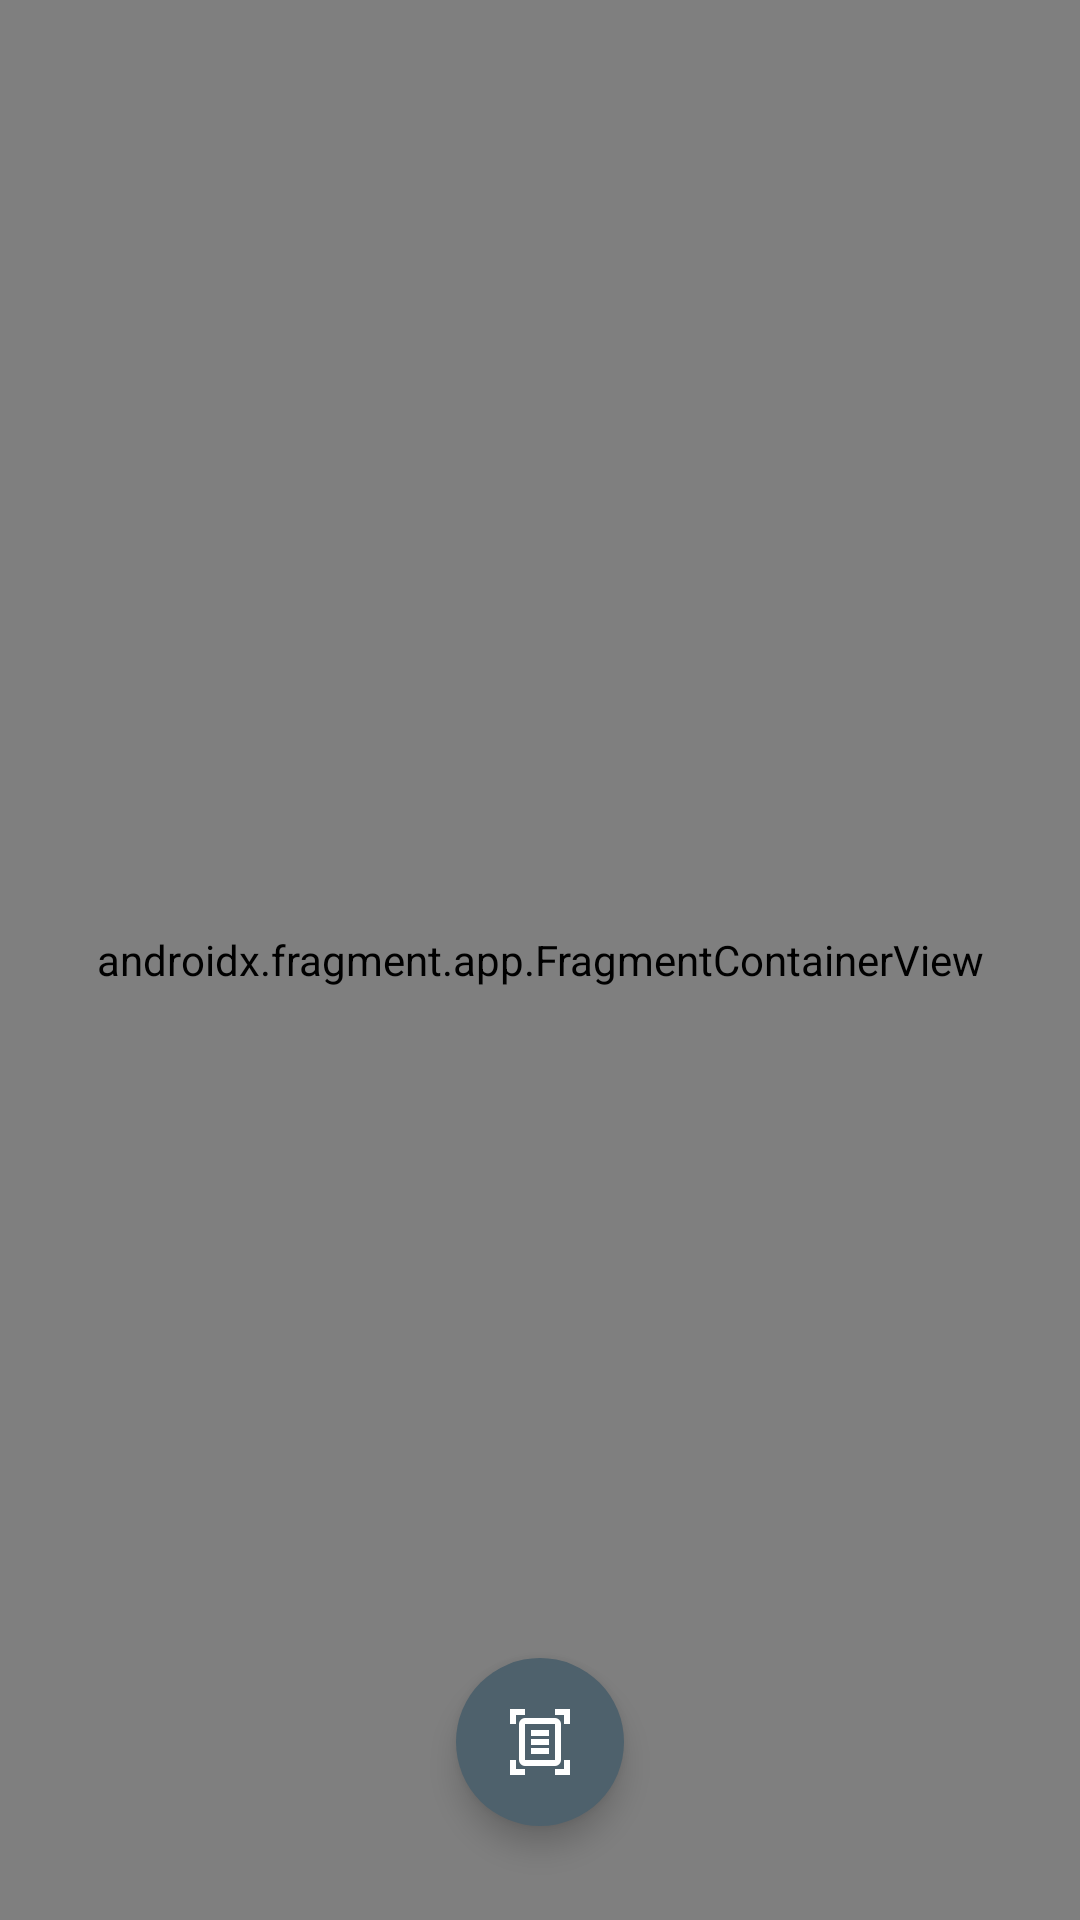

Where icons sit on this 1080 × 1920 app screen, as region(x1, y1, x2, y2):
Botão para escanear a carta: region(456, 1658, 624, 1826)
